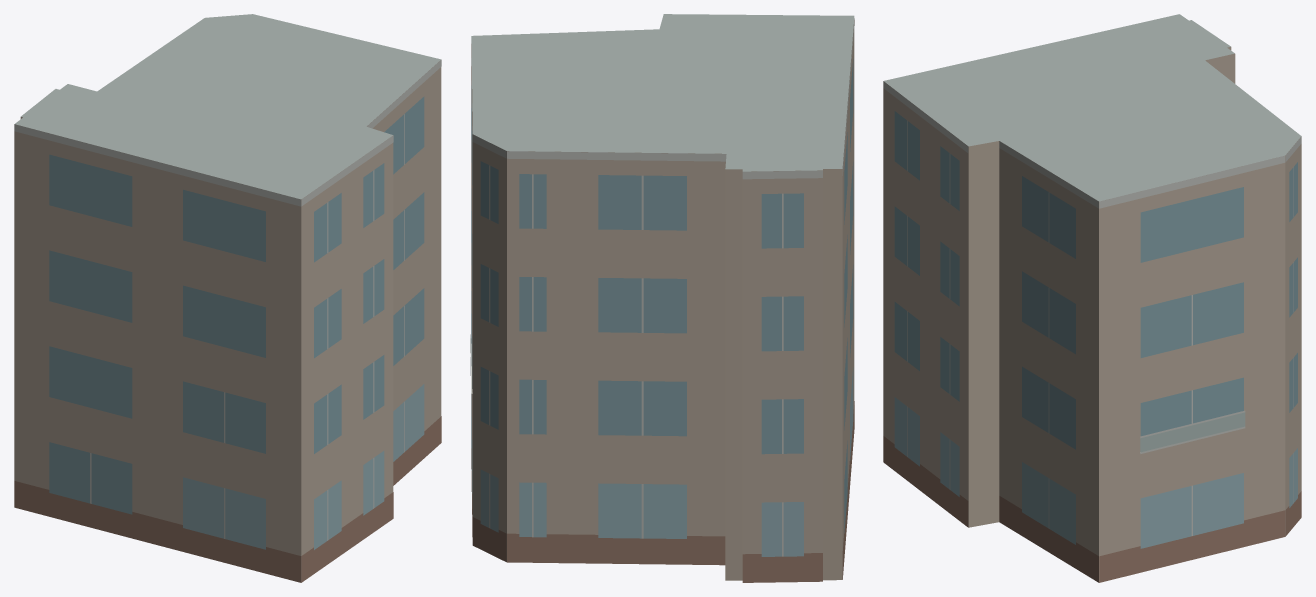
Rendered from survey-upis-32667369.glb.
The picture shows the model from 3 angles, left to right: view 1: azimuth 30°, elevation 25°; view 2: azimuth 150°, elevation 25°; view 3: azimuth 270°, elevation 25°; orthographic projection. The views are drawn at different scales.
Visible parts, largest first — view 1: survey-upis-32667369.tmp; view 2: survey-upis-32667369.tmp; view 3: survey-upis-32667369.tmp.
Part boxes in pixels (x1,y1,x2,y2): survey-upis-32667369.tmp: (14, 14, 441, 582); survey-upis-32667369.tmp: (470, 14, 854, 582); survey-upis-32667369.tmp: (883, 14, 1301, 582).
Size of the model in its own units: 13.73 by 13 by 12.93.
